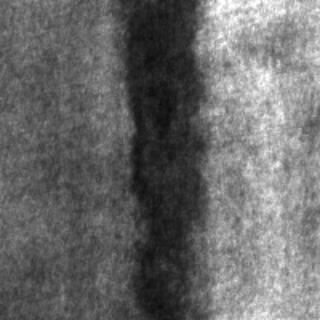patches: (120, 0, 210, 316)
